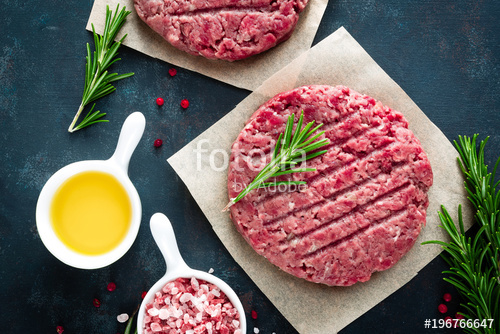ground_beef: (228, 80, 437, 279), (130, 1, 308, 57)
